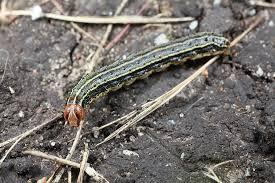fallarmy_worm: (51, 32, 233, 129)
